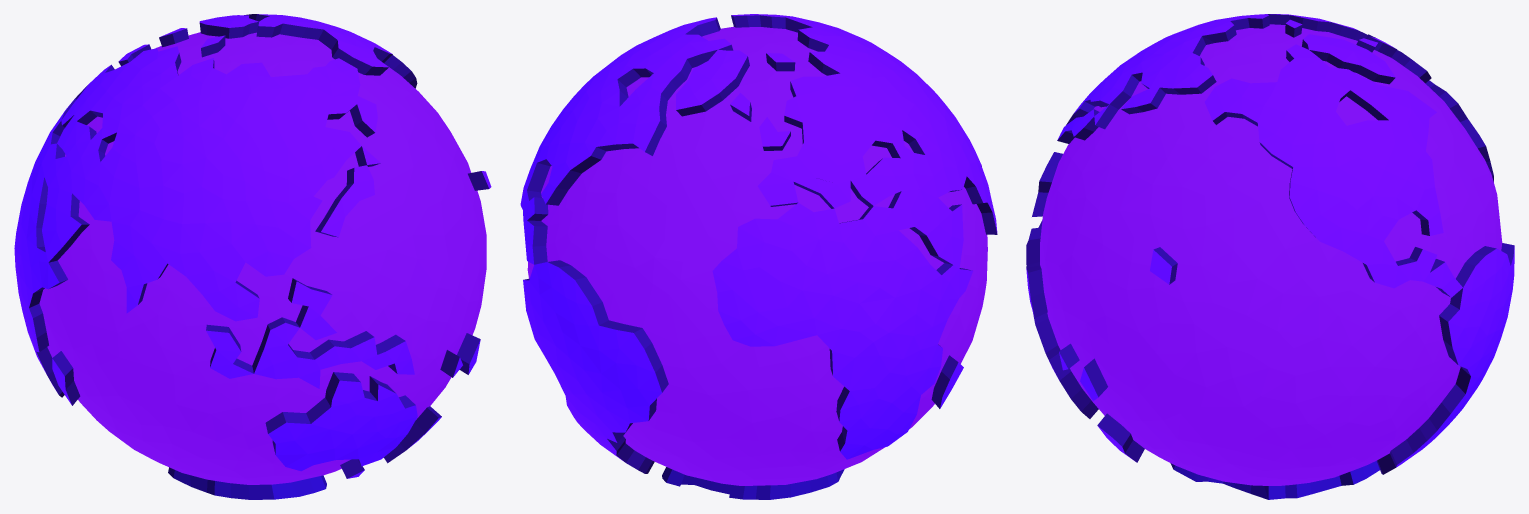
File: earth.glb
3 renders of one model, left to right at view 1: azimuth 30°, elevation 25°; view 2: azimuth 150°, elevation 25°; view 3: azimuth 270°, elevation 25°, orthographic.
Parts seen in each view (by area): view 1: Sphere; view 2: Sphere; view 3: Sphere.
Boxes of the visible parts, x1,y1,x2,y2 form: Sphere: (14,14,491,499); Sphere: (520,14,997,499); Sphere: (1026,14,1514,499).
Bounding box in the file's own units: 2.04 × 2.11 × 2.11.
